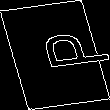P_W: (13, 32, 97, 78)
